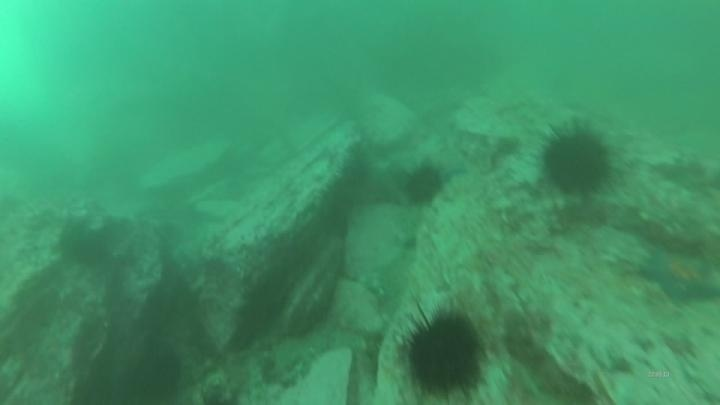echinus: (398, 304, 489, 401), (537, 121, 617, 200), (124, 346, 187, 404), (57, 223, 111, 270), (401, 162, 446, 208)
starfish: (637, 245, 720, 308)
